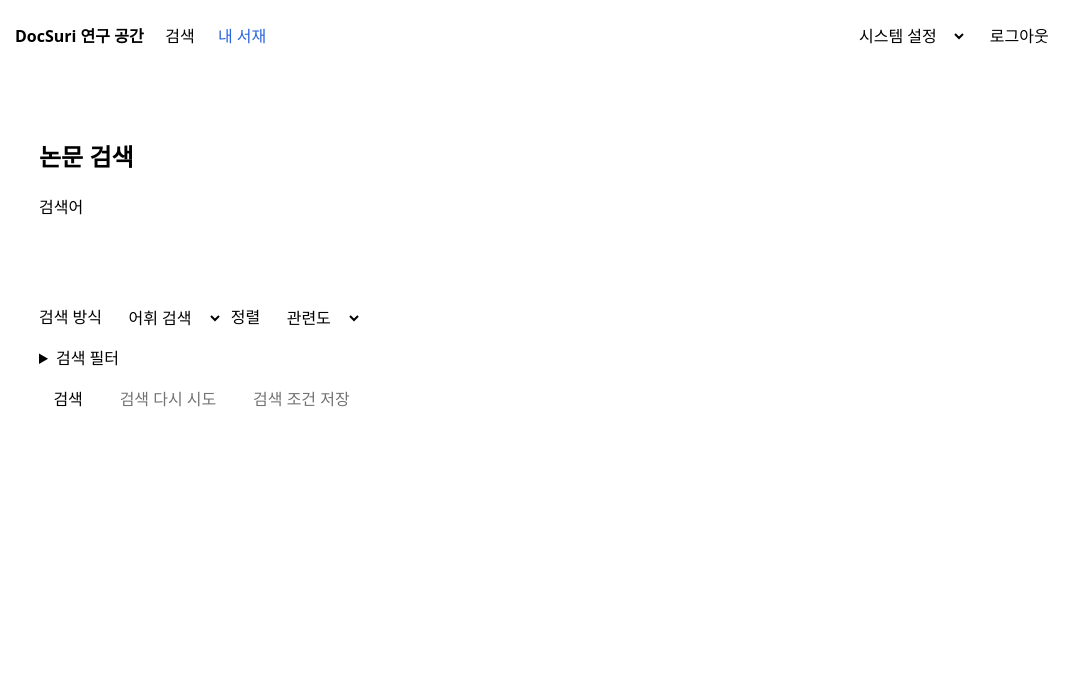
Scenario: library mutations and rerun › keeps a failed history clear truthful and preserves the saved work
The width and height of the screenshot is (1065, 673).
Click the button with test id "nav-library". click: (242, 36)
box: x1=208 y1=16 x2=276 y2=56
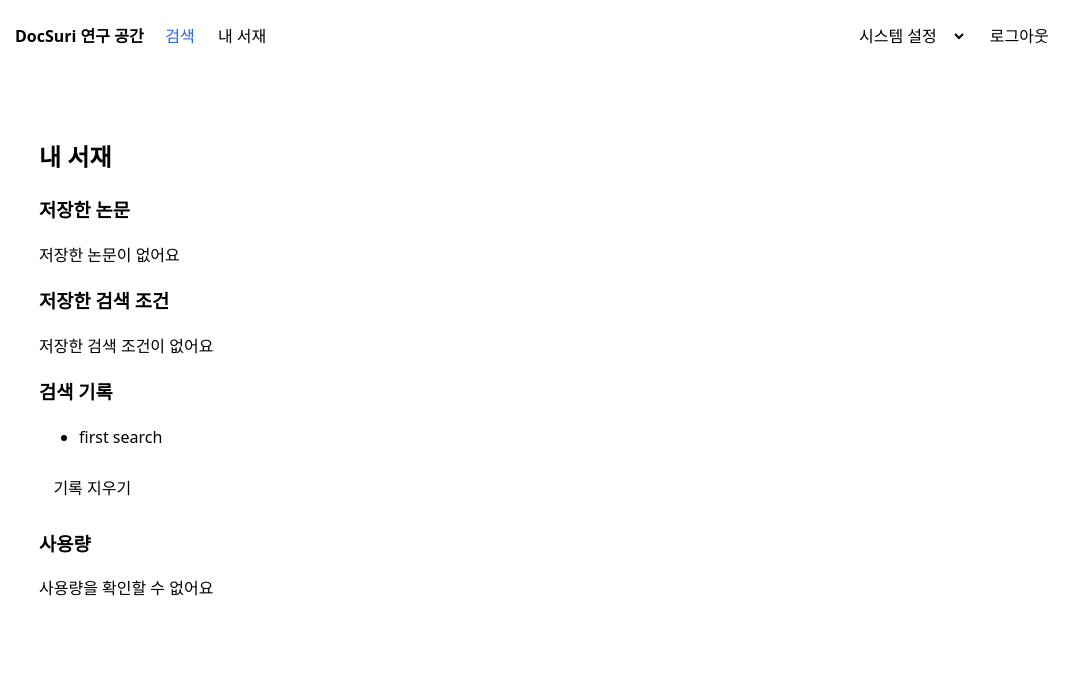
Click the button with test id "clear-history". click: (92, 488)
box: x1=39 y1=466 x2=146 y2=510
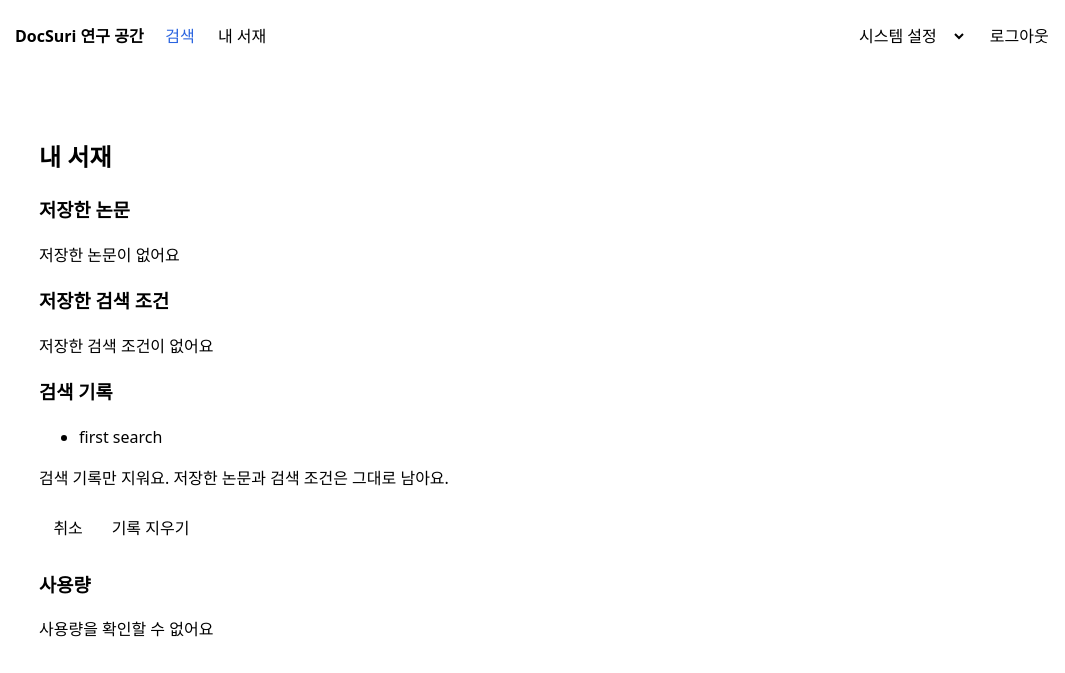
Click the button with test id "confirm-clear". click: (150, 529)
box: x1=97 y1=507 x2=204 y2=551
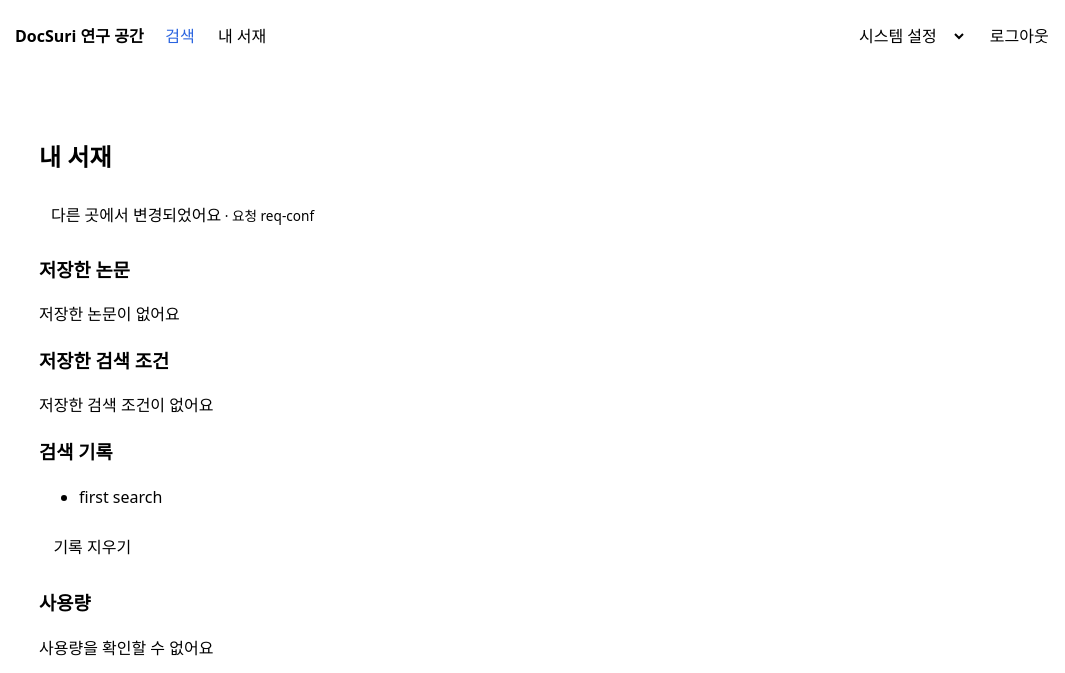
Result: the list item "first search" is shown at x1=79 y1=486 x2=162 y2=508
Result: the message with test id "status-line" shows "다른 곳에서 변경되었어요" at x1=51 y1=204 x2=221 y2=226
